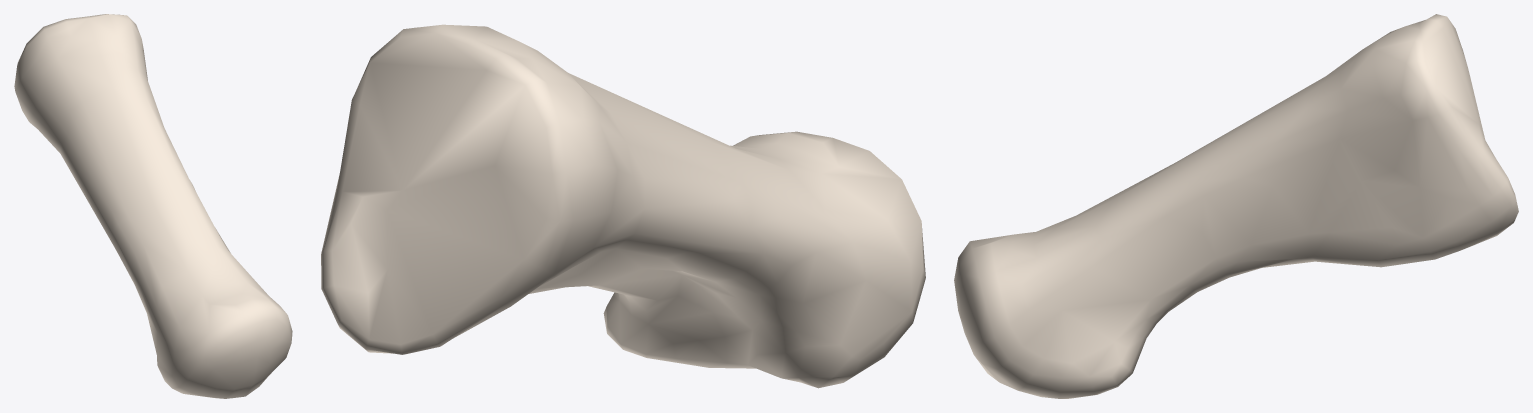
The model's file is left_metatarsal_1.glb.
3 views of the same model, side by side, from view 1: azimuth 30°, elevation 25°; view 2: azimuth 150°, elevation 25°; view 3: azimuth 270°, elevation 25° (orthographic). The views are drawn at different scales.
Parts seen in each view (by area): view 1: First metatarsal bone.r; view 2: First metatarsal bone.r; view 3: First metatarsal bone.r.
Boxes of the visible parts, bbox=[...] form: First metatarsal bone.r: bbox=[14, 14, 292, 398]; First metatarsal bone.r: bbox=[321, 24, 925, 388]; First metatarsal bone.r: bbox=[954, 14, 1518, 398].
Bounding box in the file's own units: 0.0213 × 0.0443 × 0.0632.
